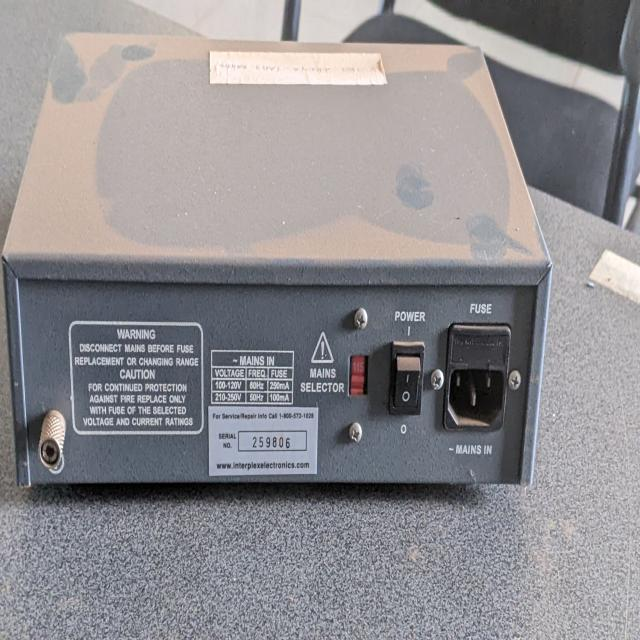A 200KHZ Function Generator: (0, 22, 555, 510)
